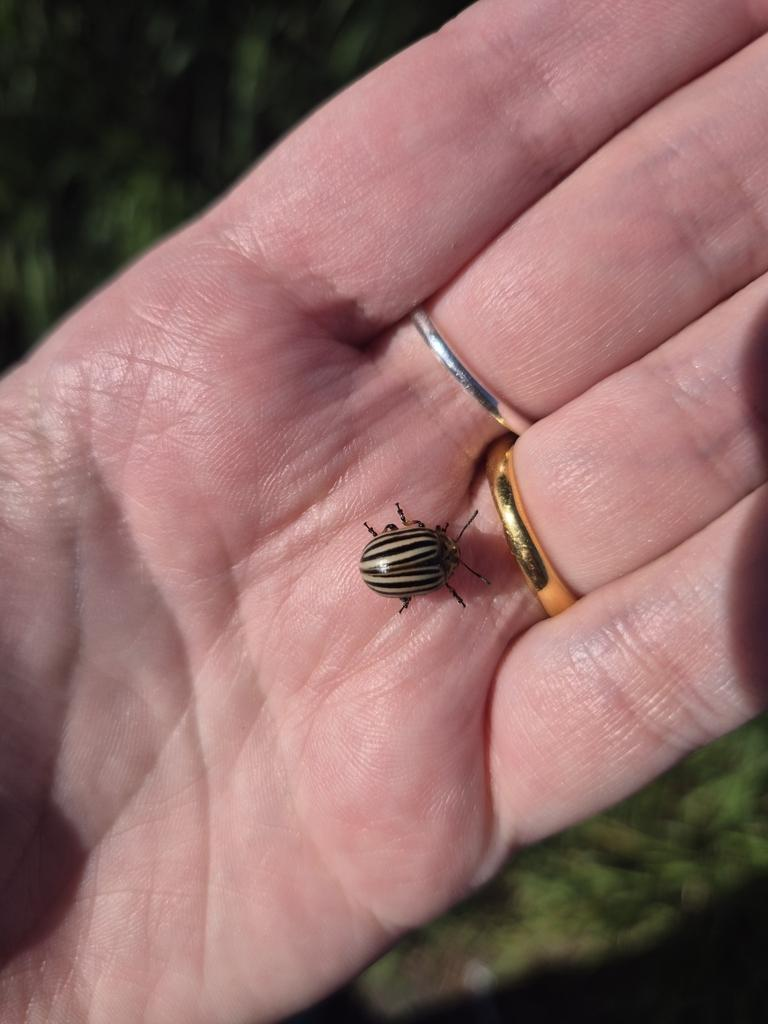potato_beetle: (334, 478, 506, 642)
